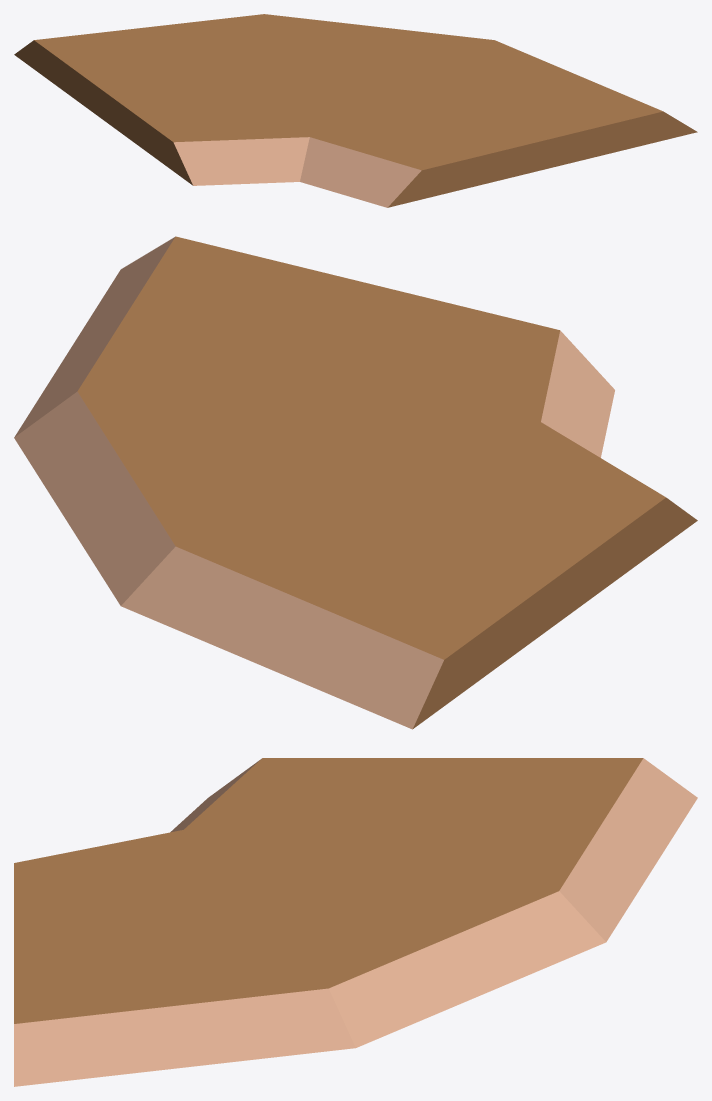
The model's file is crops_dirtRowCorner.glb.
3 views of the same model, one above another, from view 1: azimuth 30°, elevation 25°; view 2: azimuth 150°, elevation 25°; view 3: azimuth 270°, elevation 25° (orthographic). The views are drawn at different scales.
Visible parts, largest first — view 1: crops_dirtRowCorner; view 2: crops_dirtRowCorner; view 3: crops_dirtRowCorner.
Boxes of the visible parts, <box> form: crops_dirtRowCorner: <box>14,14,697,207</box>; crops_dirtRowCorner: <box>14,236,697,729</box>; crops_dirtRowCorner: <box>14,758,697,1086</box>.
Size of the model in its own units: 0.779 by 0.05 by 0.779.
